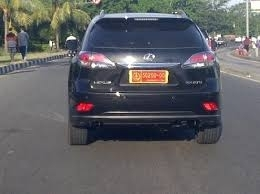plate: (132, 69, 166, 83)
